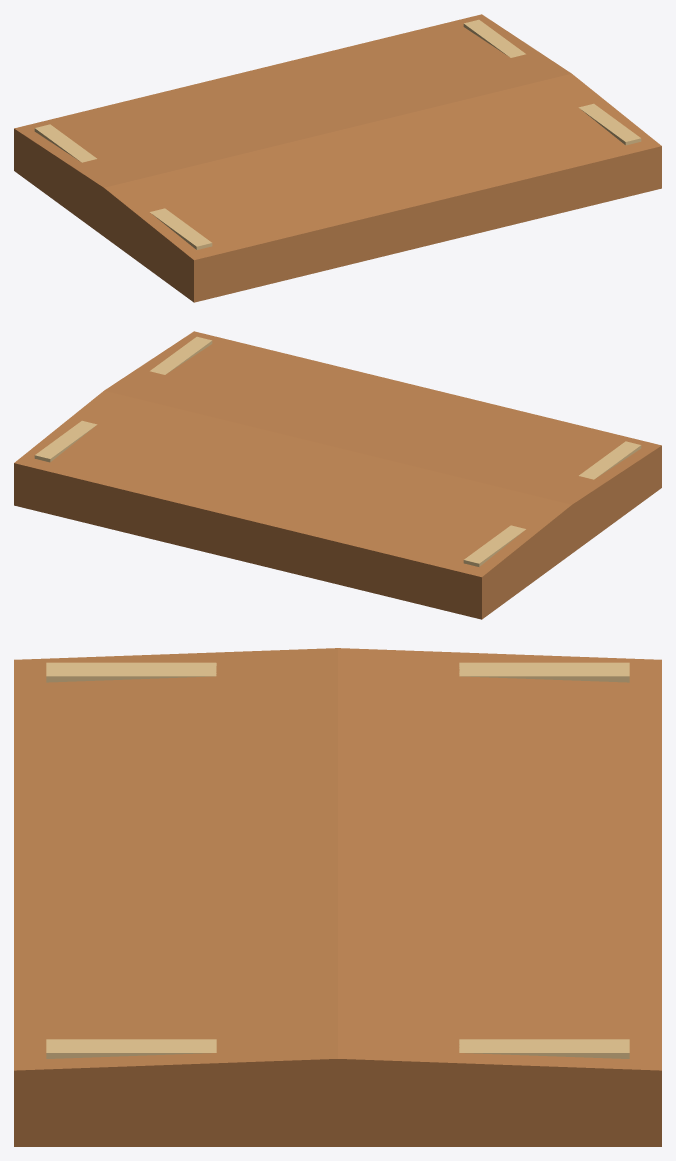
The model's file is plank_1_4.glb.
3 renders of one model, top to bottom at view 1: azimuth 30°, elevation 25°; view 2: azimuth 150°, elevation 25°; view 3: azimuth 270°, elevation 25°, orthographic. The views are drawn at different scales.
Parts seen in each view (by area): view 1: plank; view 2: plank; view 3: plank.
Part boxes in pixels (bbox=[...]): plank: bbox=[14, 14, 661, 302]; plank: bbox=[14, 331, 661, 619]; plank: bbox=[14, 648, 661, 1146].
Size of the model in its own units: 0.06 by 0.006 by 0.04.
